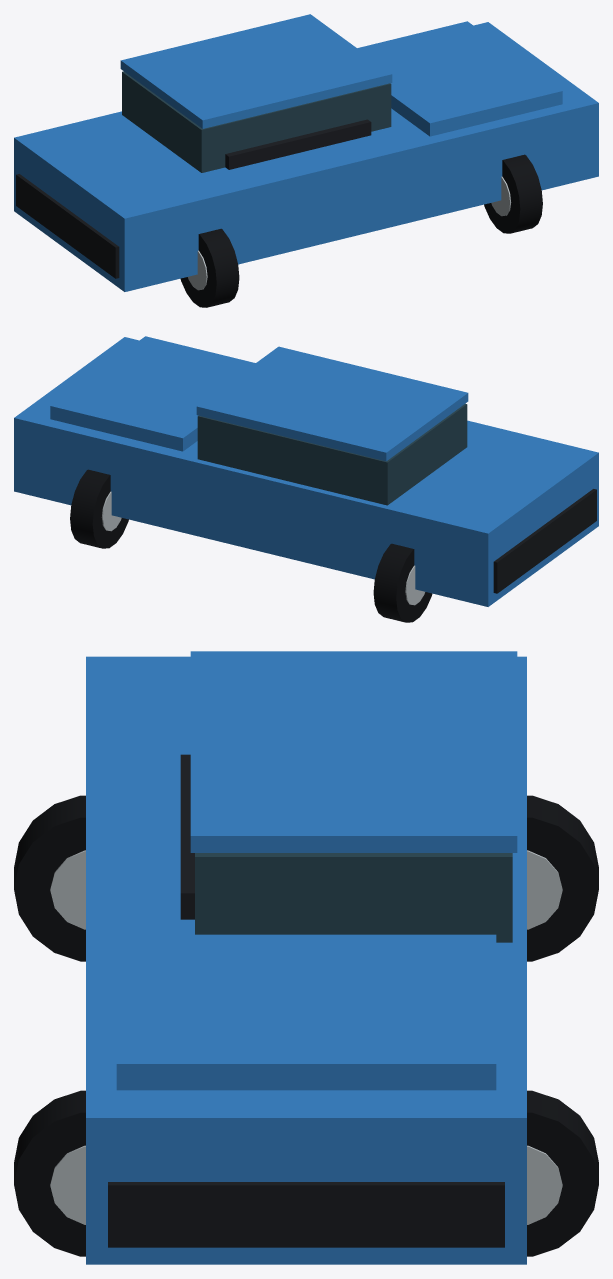
File: ford_focus.glb
The picture shows the model from 3 angles, top to bottom: view 1: azimuth 30°, elevation 25°; view 2: azimuth 150°, elevation 25°; view 3: azimuth 270°, elevation 25°; orthographic projection. The views are drawn at different scales.
Parts seen in each view (by area): view 1: body, roof, hood, cabin, rear_bumper, rear_right_wheel, front_right_wheel, interior; view 2: body, roof, hood, cabin, rear_bumper, rear_left_wheel, front_left_wheel; view 3: body, roof, hood, cabin, front_bumper, rear_left_wheel, rear_right_wheel, front_left_wheel, front_right_wheel, interior.
Part boxes in pixels (left/top/right/bottom): body: left=14, top=22, right=598, bottom=291; roof: left=120, top=14, right=392, bottom=128; hood: left=357, top=21, right=562, bottom=136; cabin: left=122, top=71, right=391, bottom=172; rear_bumper: left=16, top=174, right=119, bottom=278; rear_right_wheel: left=180, top=228, right=239, bottom=307; front_right_wheel: left=484, top=154, right=542, bottom=233; interior: left=225, top=119, right=371, bottom=169; body: left=14, top=337, right=598, bottom=606; roof: left=196, top=346, right=468, bottom=461; hood: left=50, top=336, right=255, bottom=451; cabin: left=197, top=403, right=467, bottom=505; rear_bumper: left=493, top=489, right=596, bottom=593; rear_left_wheel: left=373, top=543, right=432, bottom=622; front_left_wheel: left=70, top=469, right=128, bottom=548; body: left=86, top=656, right=526, bottom=1264; roof: left=190, top=651, right=517, bottom=852; hood: left=116, top=934, right=496, bottom=1090; cabin: left=195, top=853, right=512, bottom=942; front_bumper: left=108, top=1182, right=504, bottom=1247; rear_left_wheel: left=527, top=795, right=598, bottom=961; rear_right_wheel: left=14, top=795, right=85, bottom=961; front_left_wheel: left=527, top=1090, right=598, bottom=1256; front_right_wheel: left=14, top=1090, right=85, bottom=1256; interior: left=180, top=754, right=194, bottom=919.
Size of the model in its own units: 4.67 by 1.48 by 2.47.
